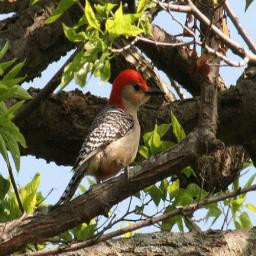Woodpecker: (50, 65, 167, 211)
